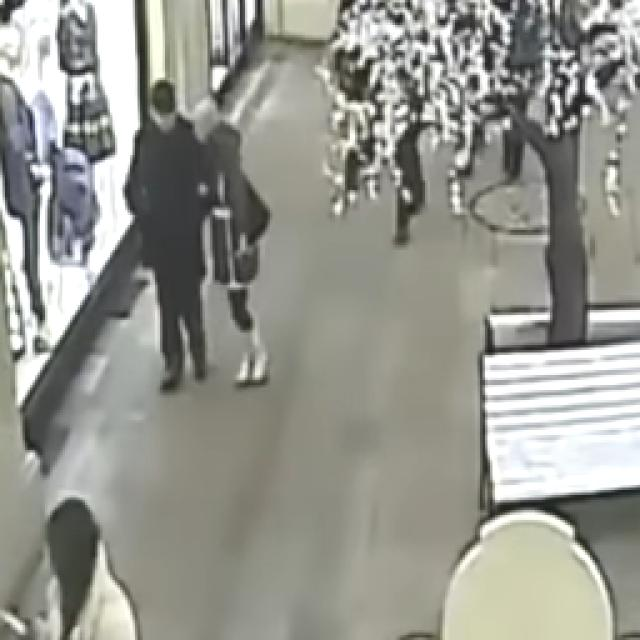person: (122, 80, 222, 390), (192, 95, 270, 390), (8, 495, 150, 637)
